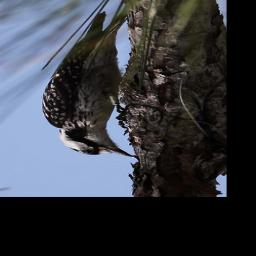Woodpecker: (33, 4, 145, 165)
